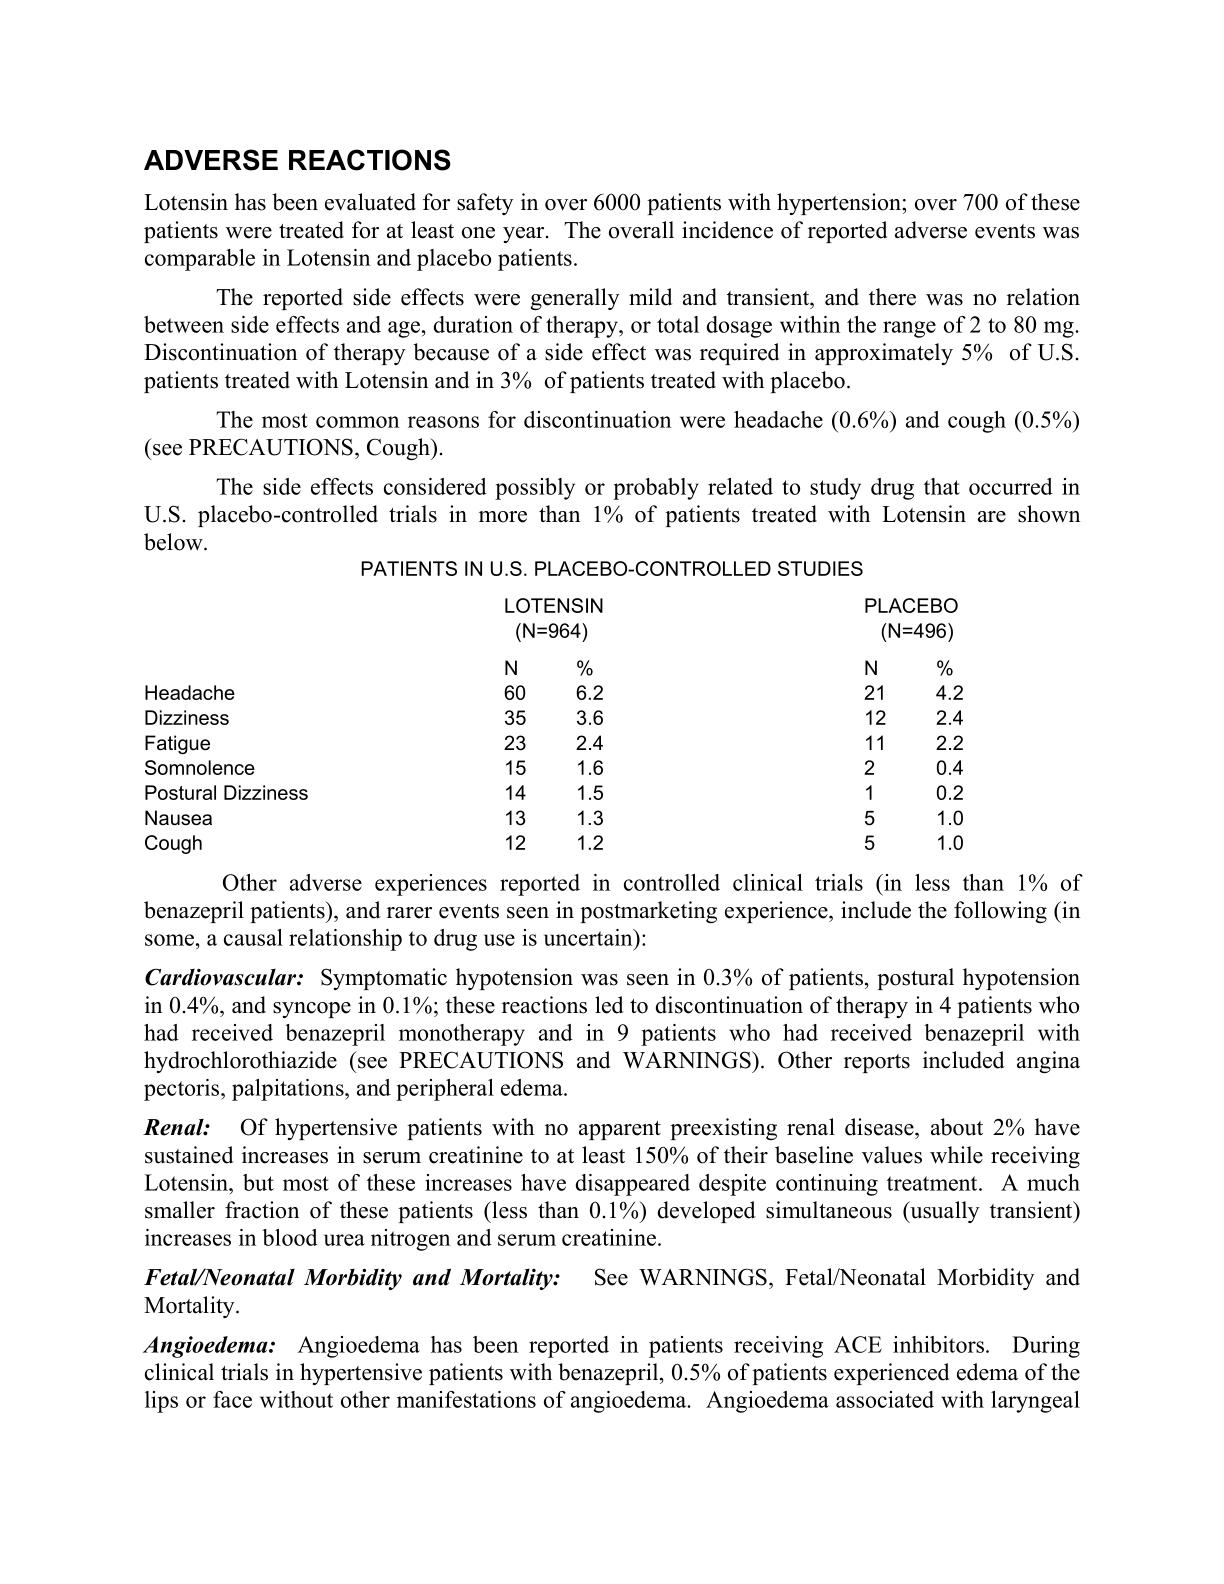nolines: (138, 593, 969, 858)
